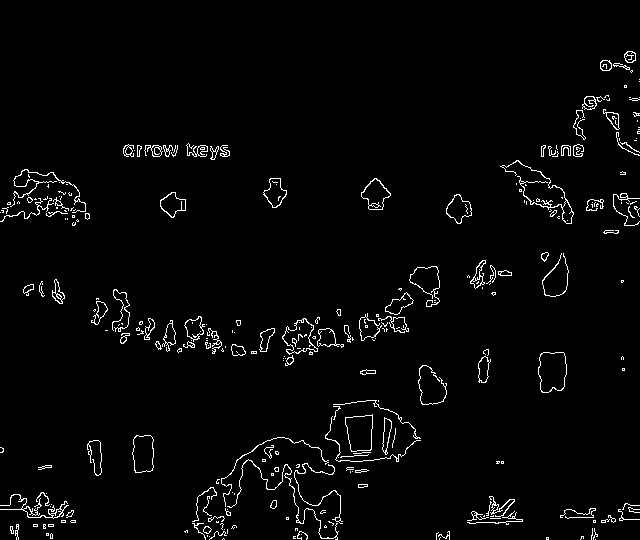down: (257, 173, 293, 219)
left: (433, 188, 482, 230), (154, 187, 198, 225)
up: (357, 174, 397, 218)
